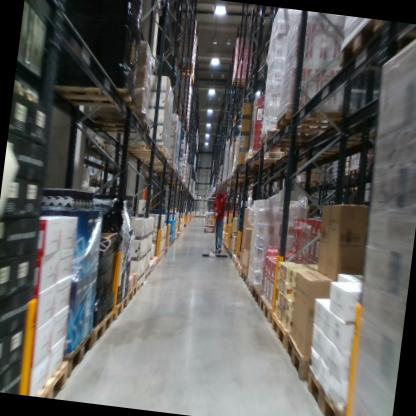pallet: (280, 312, 357, 389), (24, 88, 111, 153), (335, 18, 416, 86), (47, 71, 139, 125), (273, 104, 366, 145), (304, 366, 353, 416), (79, 105, 156, 136), (57, 322, 95, 380), (257, 125, 318, 154), (37, 355, 73, 400), (90, 305, 115, 352), (245, 146, 289, 168), (265, 313, 290, 351), (126, 136, 166, 159), (256, 294, 285, 322), (136, 147, 170, 167), (250, 280, 273, 308), (113, 291, 130, 326), (124, 282, 139, 309), (301, 175, 323, 188), (345, 164, 362, 179), (231, 75, 250, 88), (82, 131, 96, 147), (147, 253, 158, 271), (136, 272, 145, 292), (14, 84, 25, 100), (245, 277, 254, 293), (233, 256, 242, 272), (240, 269, 247, 286), (236, 262, 243, 277), (142, 269, 149, 284), (147, 262, 154, 275), (230, 254, 236, 265), (92, 175, 98, 183)
